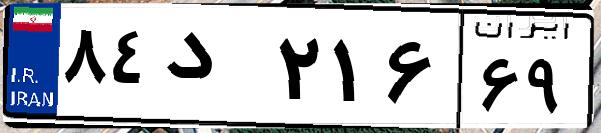1: (330, 28, 385, 110)
2: (270, 28, 330, 110)
4: (110, 28, 158, 98)
6: (385, 28, 445, 110), (475, 38, 525, 113)
8: (57, 26, 110, 100)
9: (525, 38, 570, 115)
د: (158, 20, 270, 120)
